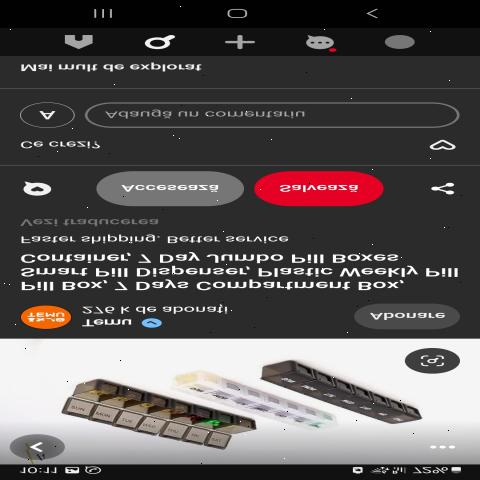PillBox: (29, 375, 263, 453)
